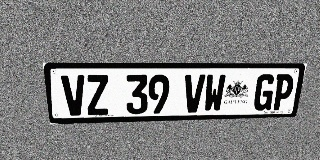3: (126, 75, 148, 114)
9: (148, 75, 170, 114)
G: (252, 74, 276, 111)
P: (271, 74, 295, 110)
V: (61, 75, 87, 116), (183, 74, 205, 113)
W: (203, 74, 226, 112)
Z: (85, 75, 109, 115)
